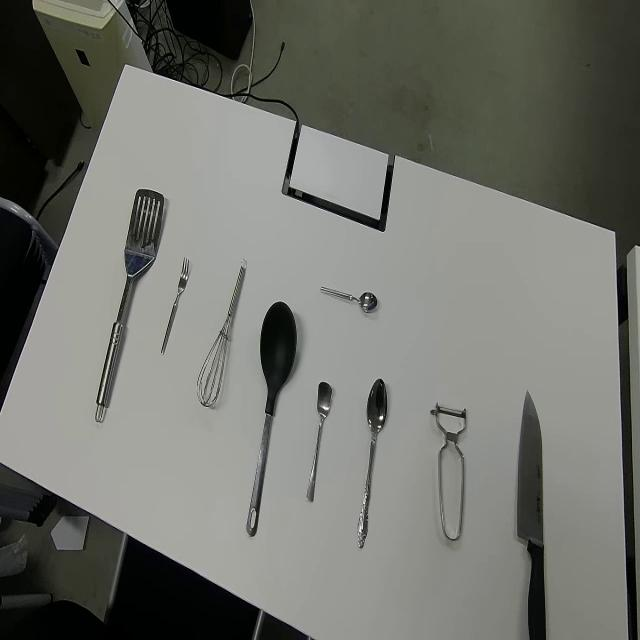Desert-Spoon: (356, 376, 388, 552)
Dinner-Fork: (160, 256, 190, 357)
Kitchen-Knife: (515, 389, 546, 640)
Peeler: (429, 402, 467, 543)
Serving-Spoon: (94, 187, 164, 426), (246, 298, 298, 539)
Tea-Spoon: (306, 379, 335, 505), (319, 281, 378, 315)
Whisk: (195, 257, 247, 409)
